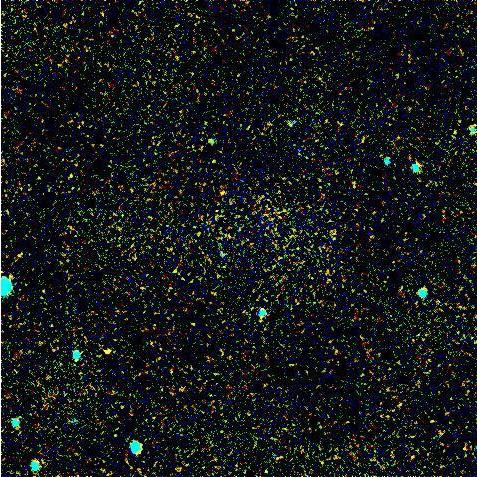star: (209, 178, 239, 208)
